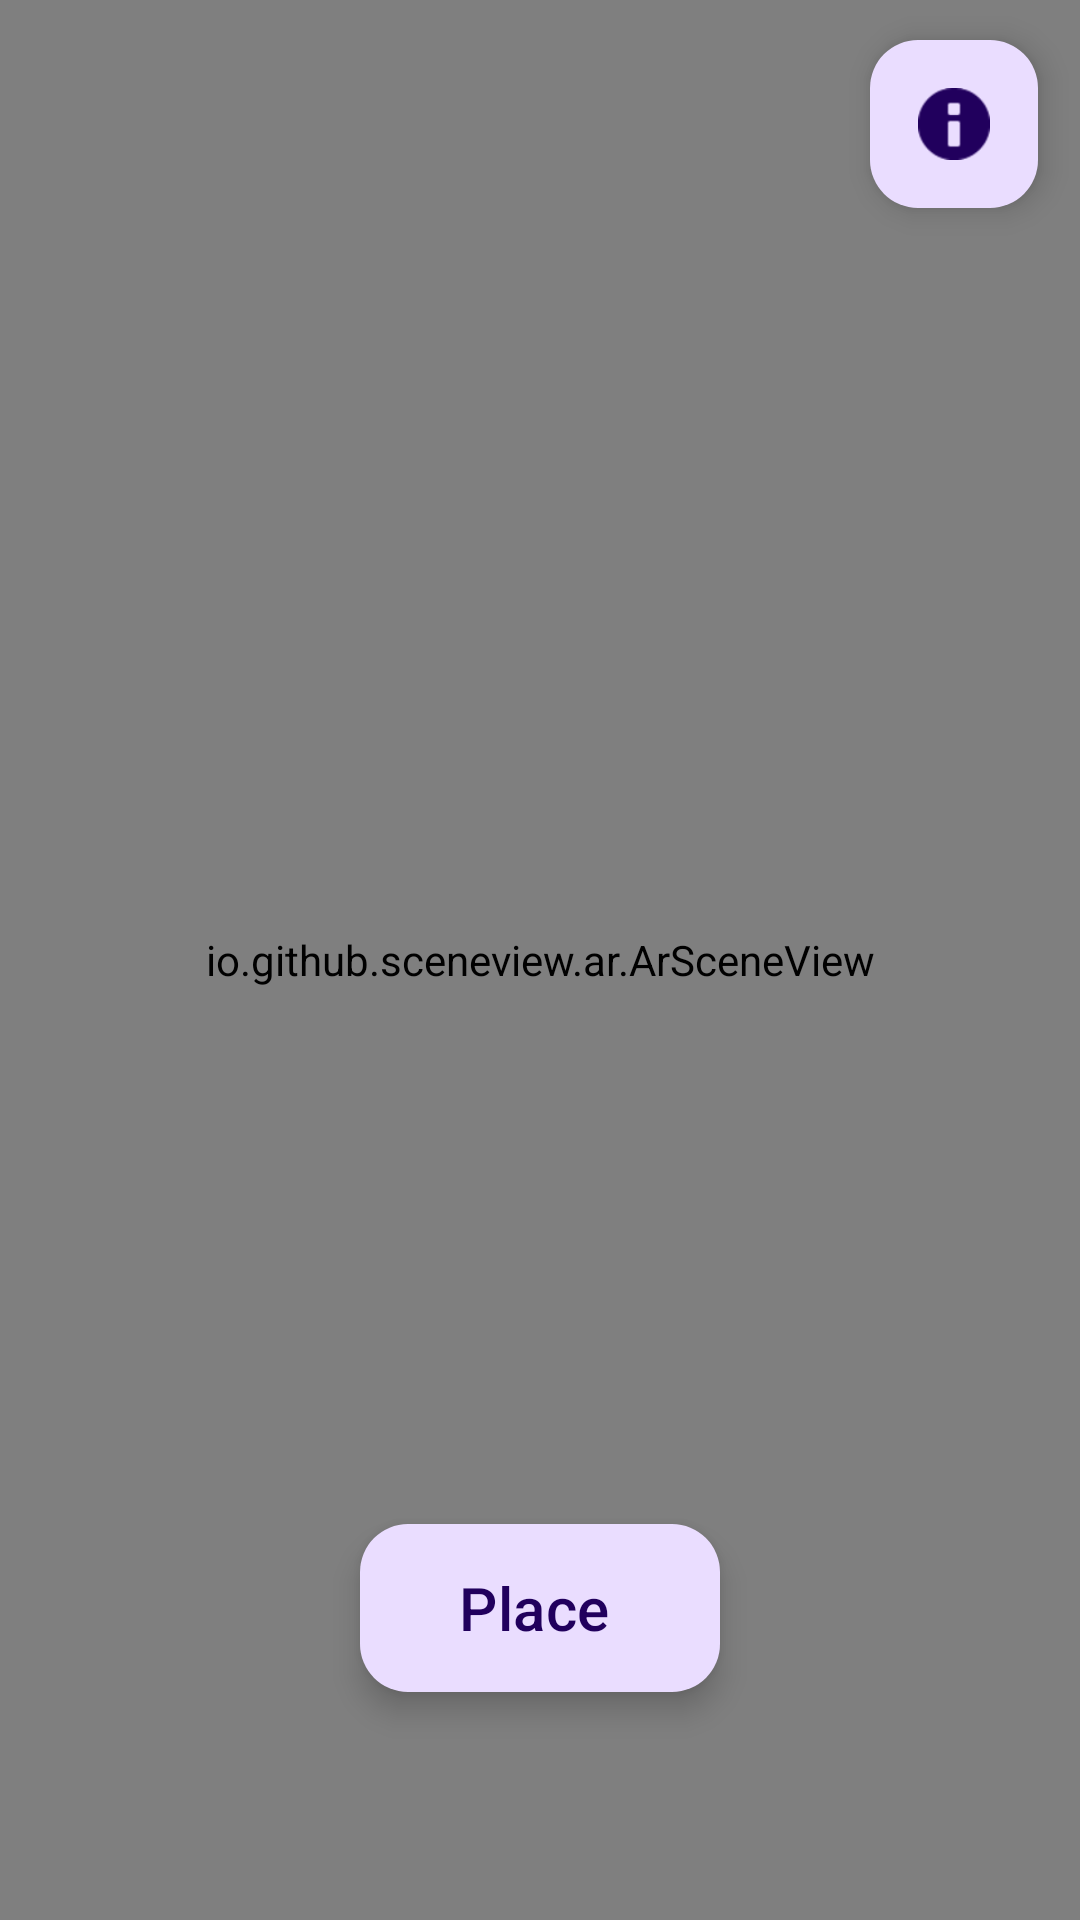

Named icons in this screenshot (1080px×1920px) and their bounding boxes, (x1, y1, x2, y2):
info: (870, 40, 1038, 208)
